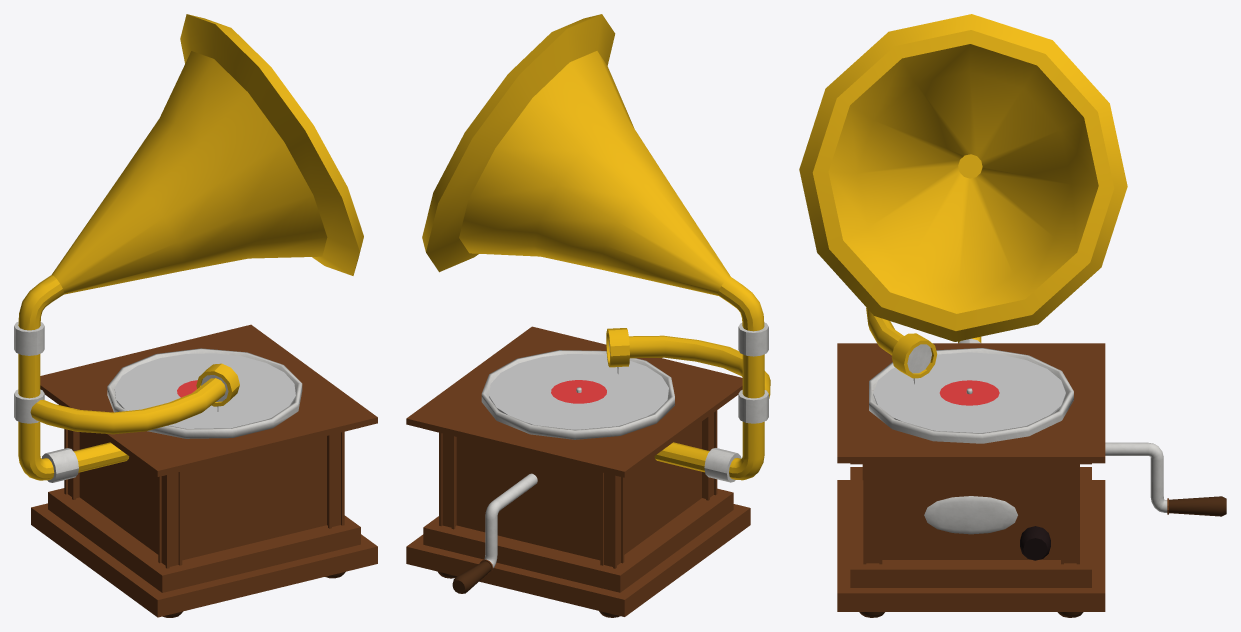
The model's file is Gramofono.fbx.
The picture shows the model from 3 angles, left to right: view 1: azimuth 30°, elevation 25°; view 2: azimuth 150°, elevation 25°; view 3: azimuth 270°, elevation 25°; orthographic projection. The views are drawn at different scales.
Visible parts, largest first — view 1: Campana, Base, Vinilo, Rodamiento_Vinilo; view 2: Campana, Base, Vinilo, Rodamiento_Vinilo, Manivela; view 3: Campana, Base, Vinilo, Rodamiento_Vinilo, Chapa, Manivela, Rueda_Volumen.
Boxes of the visible parts, left/top/right/bottom form: Campana: left=14, top=14, right=363, bottom=482; Base: left=31, top=324, right=377, bottom=617; Vinilo: left=114, top=353, right=295, bottom=428; Rodamiento_Vinilo: left=107, top=348, right=302, bottom=438; Campana: left=422, top=14, right=770, bottom=482; Base: left=406, top=326, right=750, bottom=617; Vinilo: left=489, top=354, right=668, bottom=429; Rodamiento_Vinilo: left=481, top=350, right=674, bottom=439; Manivela: left=452, top=473, right=537, bottom=593; Campana: left=799, top=14, right=1127, bottom=384; Base: left=837, top=343, right=1105, bottom=617; Vinilo: left=873, top=352, right=1065, bottom=433; Rodamiento_Vinilo: left=869, top=348, right=1073, bottom=443; Chapa: left=924, top=496, right=1017, bottom=534; Manivela: left=1105, top=442, right=1226, bottom=516; Rueda_Volumen: left=1020, top=526, right=1050, bottom=560.
Bounding box in the file's own units: 400 × 657 × 452.
